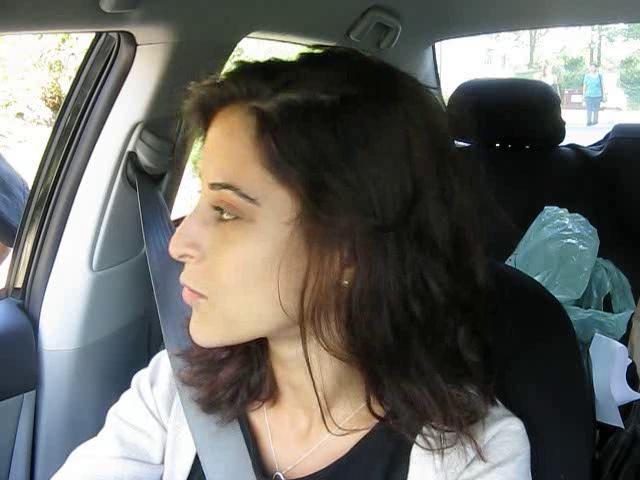no_yawn: (167, 264, 223, 321)
open_eyeR: (191, 191, 257, 233)
